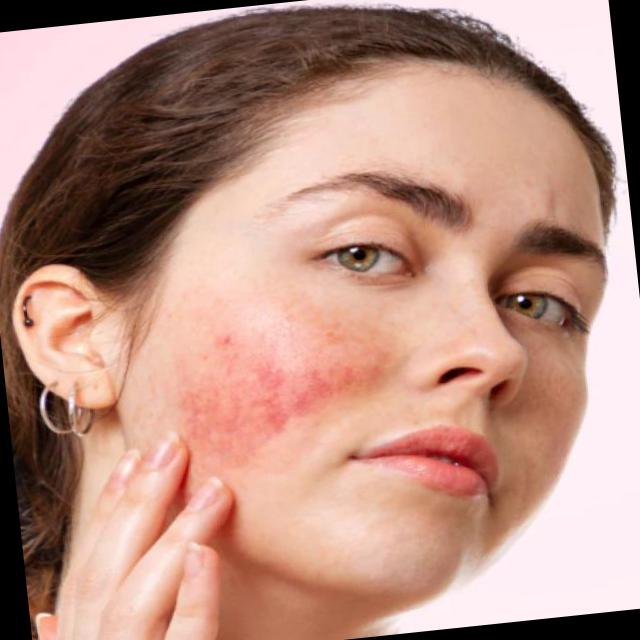redness: (185, 324, 395, 466)
